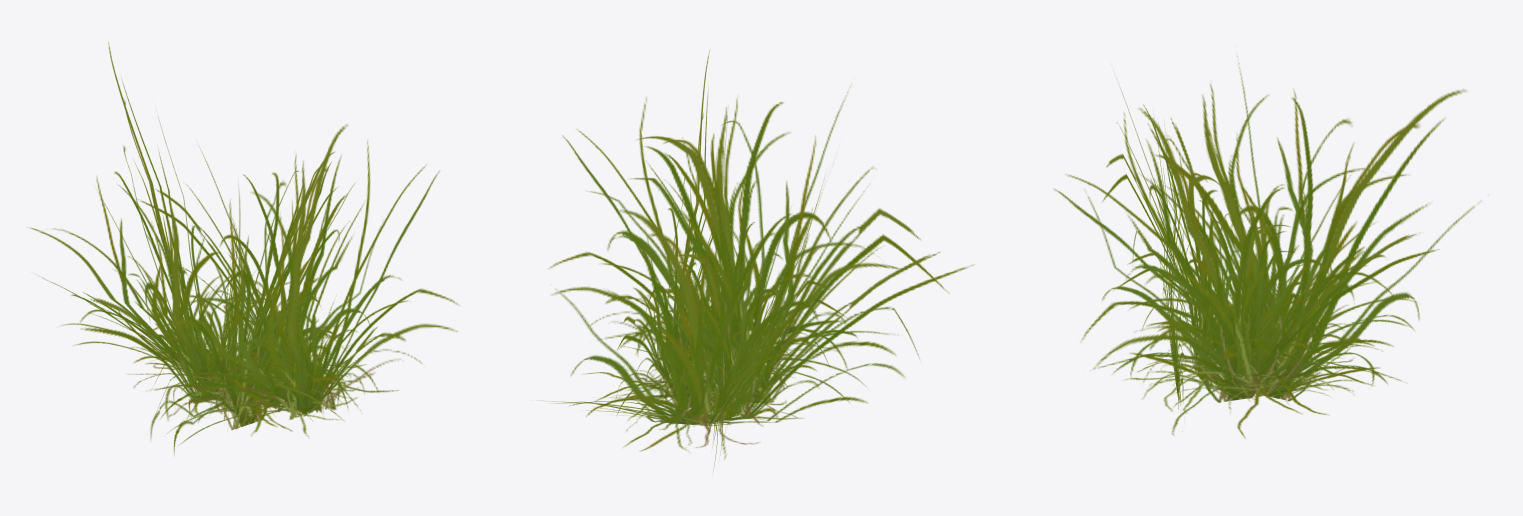
Rendered from short_fresh.glb.
3 renders of one model, left to right at view 1: azimuth 30°, elevation 25°; view 2: azimuth 150°, elevation 25°; view 3: azimuth 270°, elevation 25°, orthographic. The views are drawn at different scales.
Parts seen in each view (by area): view 1: short_fresh; view 2: short_fresh; view 3: short_fresh.
Part boxes in pixels (<box>): short_fresh: <box>28,42,459,455</box>; short_fresh: <box>541,50,973,470</box>; short_fresh: <box>1054,56,1481,438</box>.
Size of the model in its own units: 0.3252 by 0.257 by 0.3178.
1 material, 1 textured.
